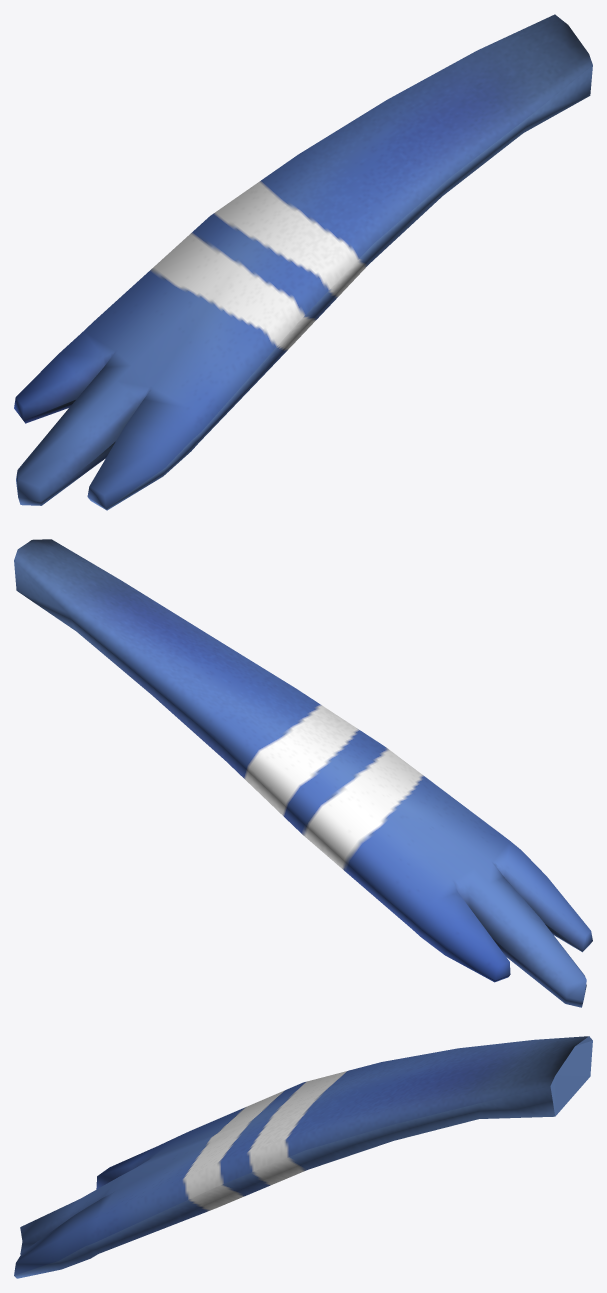
File: MordecaiBrazoDer.obj
The picture shows the model from 3 angles, top to bottom: view 1: azimuth 30°, elevation 25°; view 2: azimuth 150°, elevation 25°; view 3: azimuth 330°, elevation 25°; orthographic projection.
Visible parts, largest first — view 1: mordecay_game_play_002; view 2: mordecay_game_play_002; view 3: mordecay_game_play_002.
Boxes of the visible parts, x1,y1,x2,y2 form: mordecay_game_play_002: [14, 14, 592, 510]; mordecay_game_play_002: [14, 539, 592, 1007]; mordecay_game_play_002: [14, 1036, 592, 1278].
Bounding box in the file's own units: 0.606 × 0.3562 × 0.2023.
